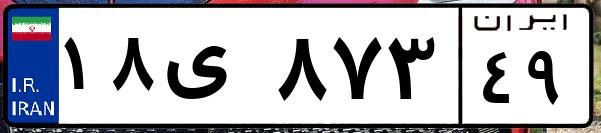1: (57, 26, 110, 100)
3: (385, 28, 445, 110)
4: (475, 38, 525, 113)
7: (330, 28, 385, 110)
8: (270, 28, 330, 110), (110, 28, 158, 98)
9: (525, 38, 570, 115)
ی: (158, 20, 270, 120)
